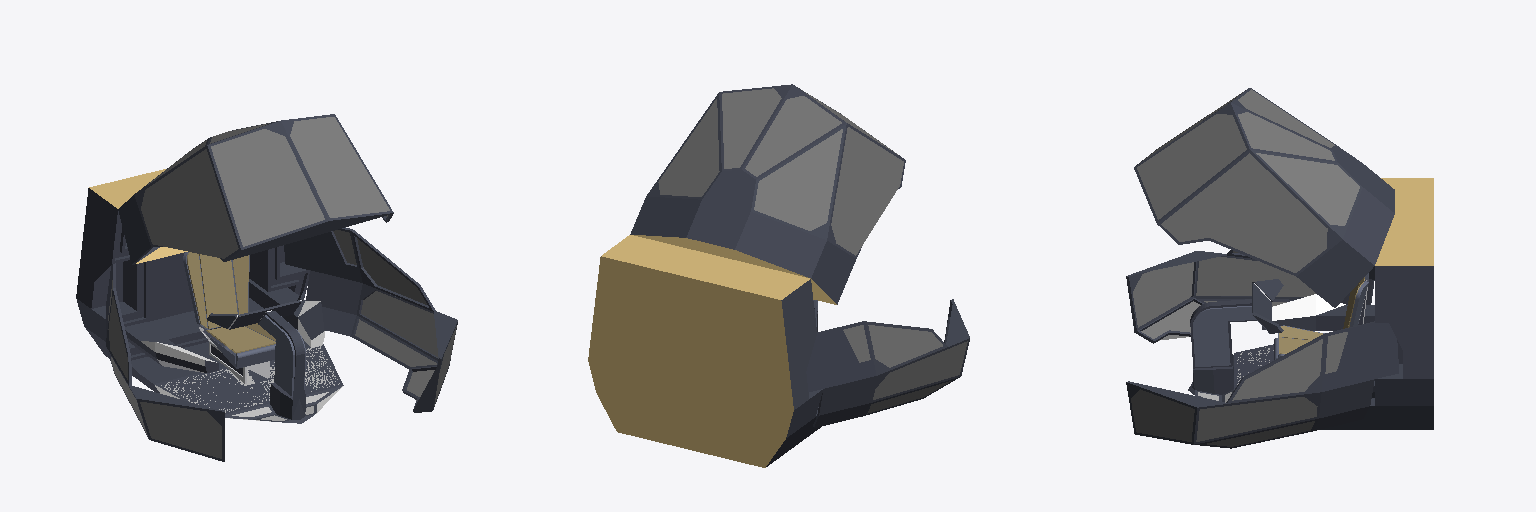
The model's file is Cockpit_2.obj.
The picture shows the model from 3 angles: view 1: azimuth 30°, elevation 25°; view 2: azimuth 150°, elevation 25°; view 3: azimuth 270°, elevation 25°; orthographic projection.
Parts seen in each view (by area): view 1: Mesh4 Group1 Model, Mesh1 Group2 Group1 Model, Mesh3 Group4 Group1 Model, Mesh2 Group3 Group1 Model; view 2: Mesh4 Group1 Model, Mesh1 Group2 Group1 Model, Mesh2 Group3 Group1 Model; view 3: Mesh1 Group2 Group1 Model, Mesh4 Group1 Model, Mesh3 Group4 Group1 Model, Mesh2 Group3 Group1 Model.
Boxes of the visible parts, x1=… form: Mesh4 Group1 Model: x1=76, y1=169, x2=343, y2=423; Mesh1 Group2 Group1 Model: x1=118, y1=114, x2=393, y2=264; Mesh3 Group4 Group1 Model: x1=284, y1=227, x2=457, y2=412; Mesh2 Group3 Group1 Model: x1=106, y1=263, x2=224, y2=461; Mesh4 Group1 Model: x1=588, y1=235, x2=822, y2=467; Mesh1 Group2 Group1 Model: x1=630, y1=84, x2=905, y2=304; Mesh2 Group3 Group1 Model: x1=806, y1=299, x2=969, y2=427; Mesh1 Group2 Group1 Model: x1=1134, y1=88, x2=1394, y2=307; Mesh4 Group1 Model: x1=1188, y1=178, x2=1433, y2=429; Mesh3 Group4 Group1 Model: x1=1126, y1=321, x2=1398, y2=448; Mesh2 Group3 Group1 Model: x1=1126, y1=250, x2=1374, y2=343.
Bounding box in the file's own units: 2.42 × 2.21 × 2.01.